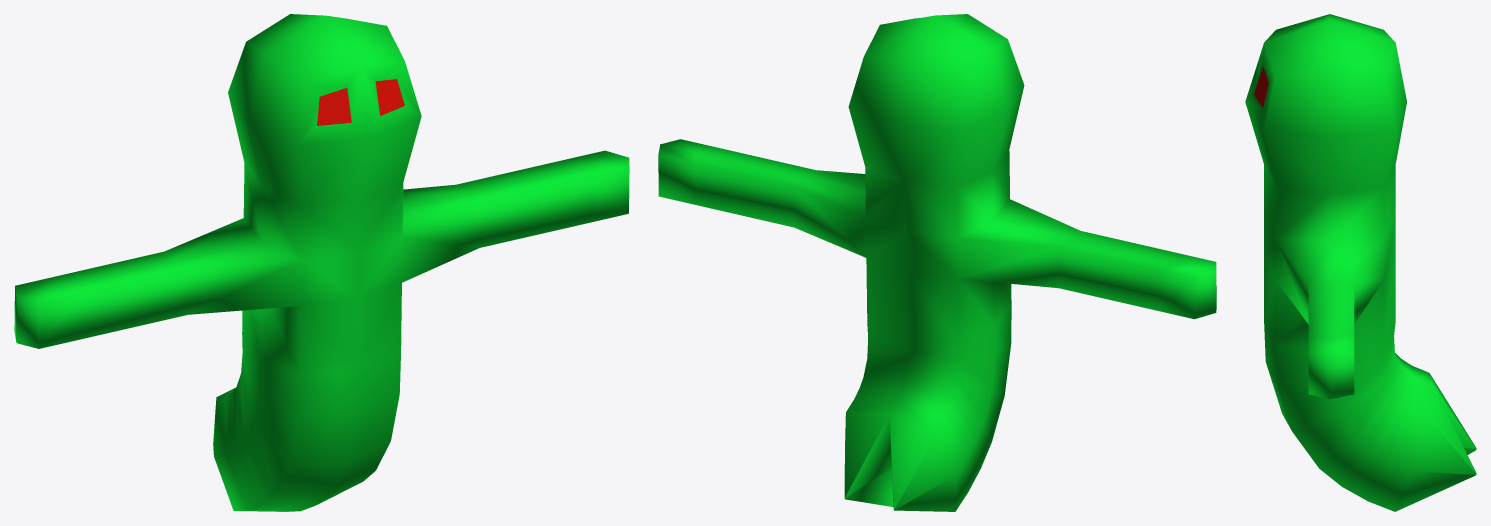
Rendered from AvgGhost.fbx.
3 renders of one model, left to right at view 1: azimuth 30°, elevation 25°; view 2: azimuth 150°, elevation 25°; view 3: azimuth 270°, elevation 25°, orthographic. The views are drawn at different scales.
Visible parts, largest first — view 1: Ghost; view 2: Ghost; view 3: Ghost.
Boxes of the visible parts, x1,y1,x2,y2 form: Ghost: [14, 14, 629, 511]; Ghost: [658, 14, 1216, 511]; Ghost: [1245, 14, 1476, 511].
Bounding box in the file's own units: 608 × 492 × 214.
